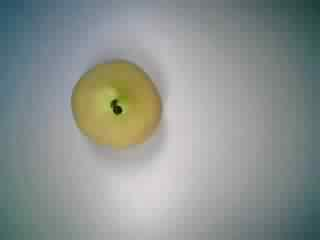pear: (63, 53, 169, 160)
